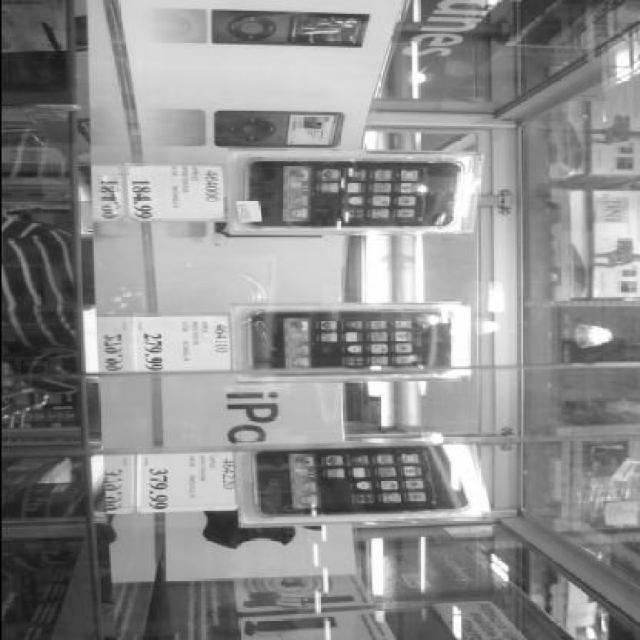fake: (251, 442, 472, 520), (242, 158, 466, 232), (248, 309, 460, 377), (250, 616, 335, 632)
